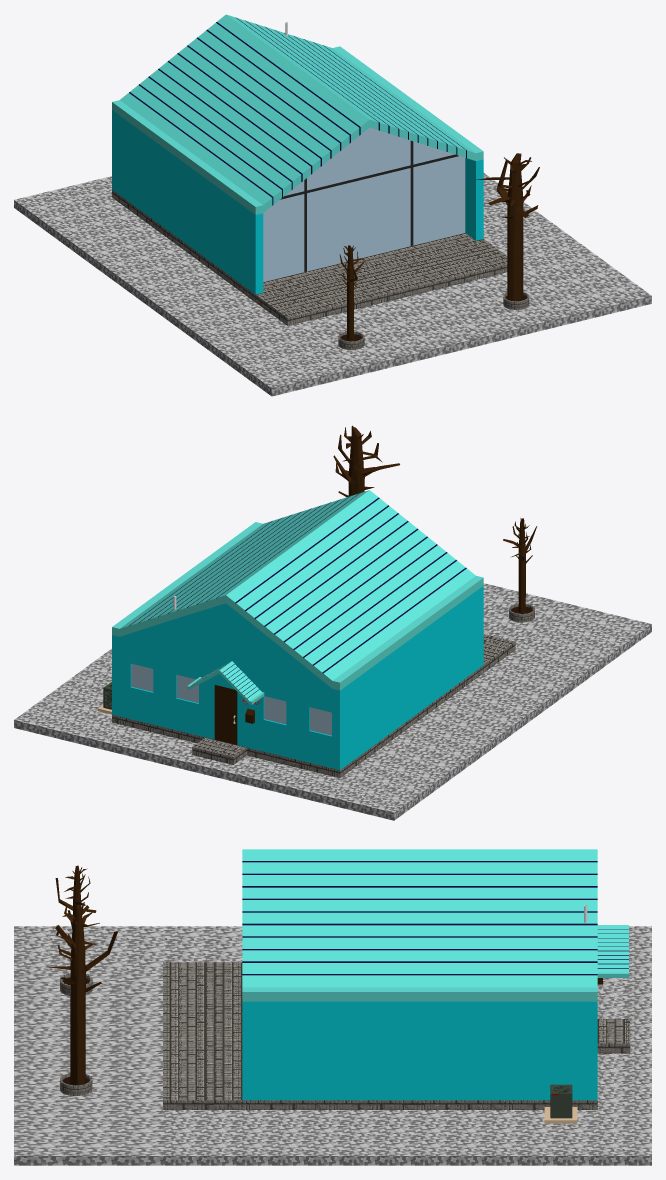
The model's file is Glass House.glb.
3 renders of one model, top to bottom at view 1: azimuth 30°, elevation 25°; view 2: azimuth 150°, elevation 25°; view 3: azimuth 270°, elevation 25°, orthographic. The views are drawn at different scales.
Visible parts, largest first — view 1: Ground and Floor, Roof, Window, Ext Walls, Tree Planters; view 2: Ground and Floor, Roof, Ext Walls, Tree Planters, Windows, Door, Roof.001; view 3: Ground and Floor, Roof, Ext Walls, Tree Planters, Roof.001, CU.
Boxes of the visible parts, x1,y1,x2,y2 form: Ground and Floor: [14, 173, 651, 396]; Roof: [112, 14, 483, 214]; Window: [263, 127, 465, 281]; Ext Walls: [112, 110, 483, 294]; Tree Planters: [338, 153, 539, 349]; Ground and Floor: [14, 583, 651, 820]; Roof: [112, 490, 483, 690]; Ext Walls: [112, 586, 483, 769]; Tree Planters: [333, 425, 537, 622]; Windows: [131, 663, 331, 735]; Door: [214, 685, 237, 744]; Roof.001: [187, 661, 264, 704]; Ground and Floor: [14, 926, 651, 1165]; Roof: [242, 849, 597, 1001]; Ext Walls: [242, 1001, 597, 1100]; Tree Planters: [46, 865, 117, 1095]; Roof.001: [597, 925, 628, 977]; CU: [544, 1084, 577, 1123].
Size of what is drawn, in the model's own units: 15.24 by 6.25 by 17.9.
Materials: 18 (2 with a texture image).
